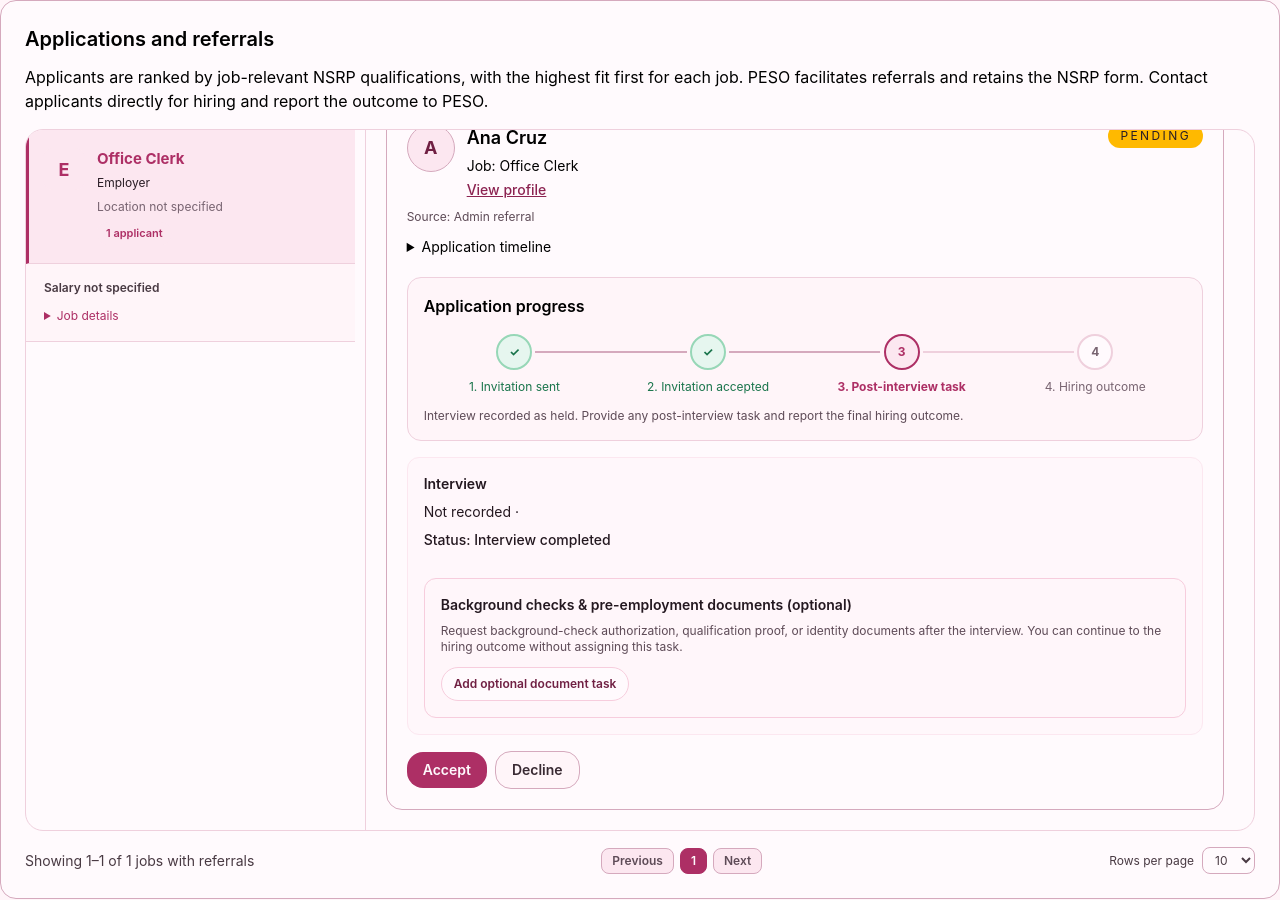
Test case: employment updates › opens an in-app referral confirmation and makes no change when cancelled
This screenshot has width=1280, height=900.
(page scrolled)
Click the button "Accept": [447, 770] box [407,752,487,788]
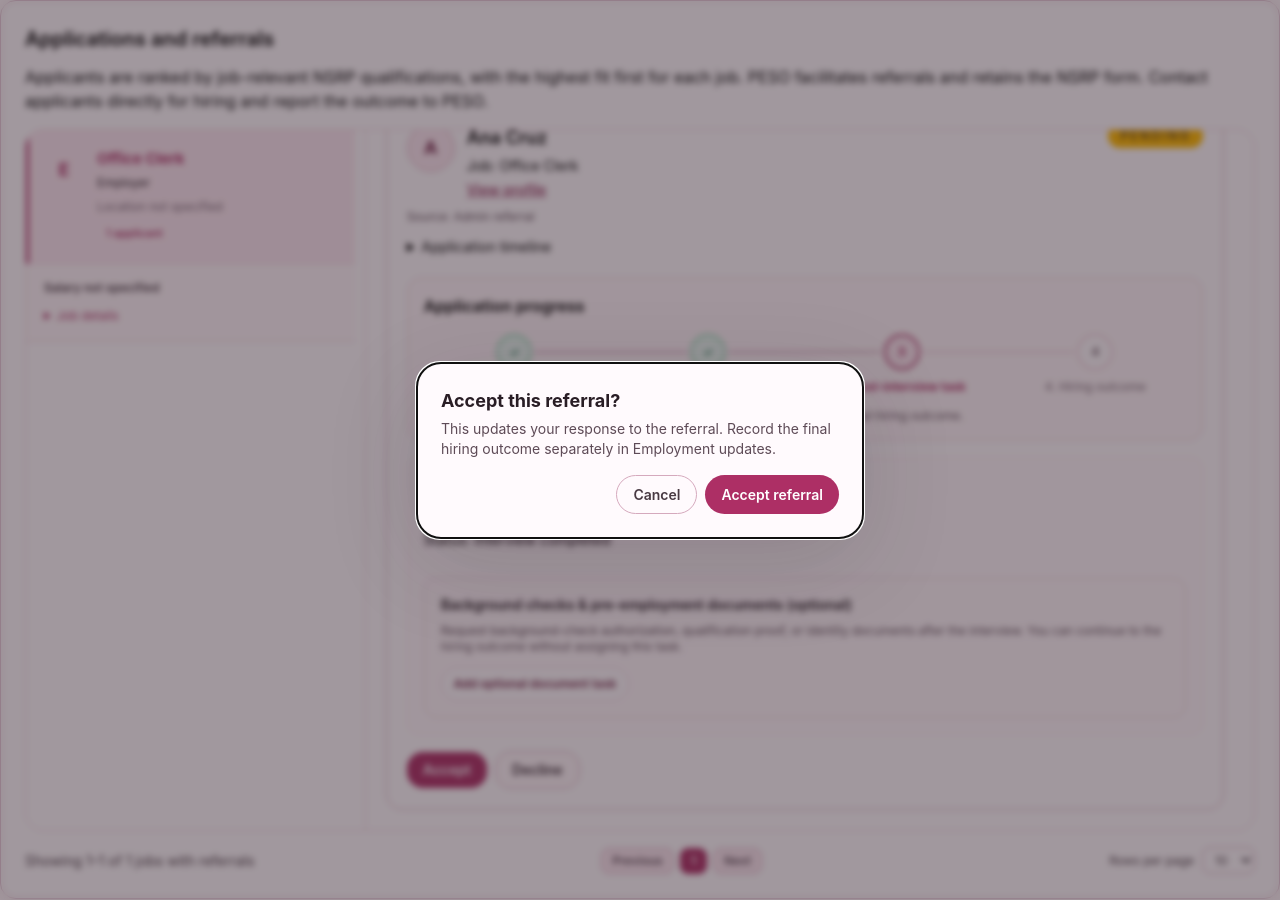
Check: the text "Record the final hiring outcome separately" is shown, box [441,420,831,456]
Click the button "Cancel": [657, 494] box [616,474,698,514]
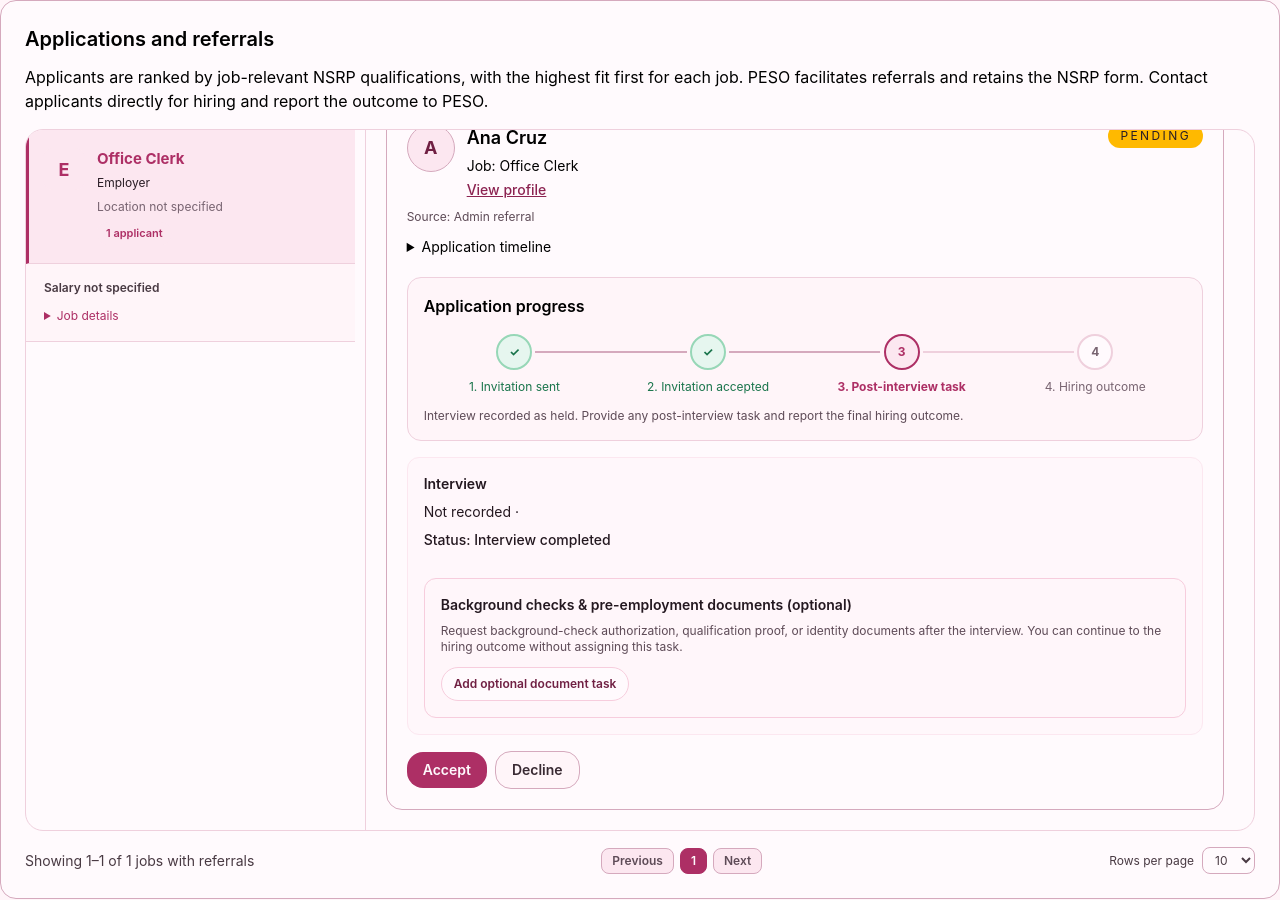
Check: the dialog is gone
